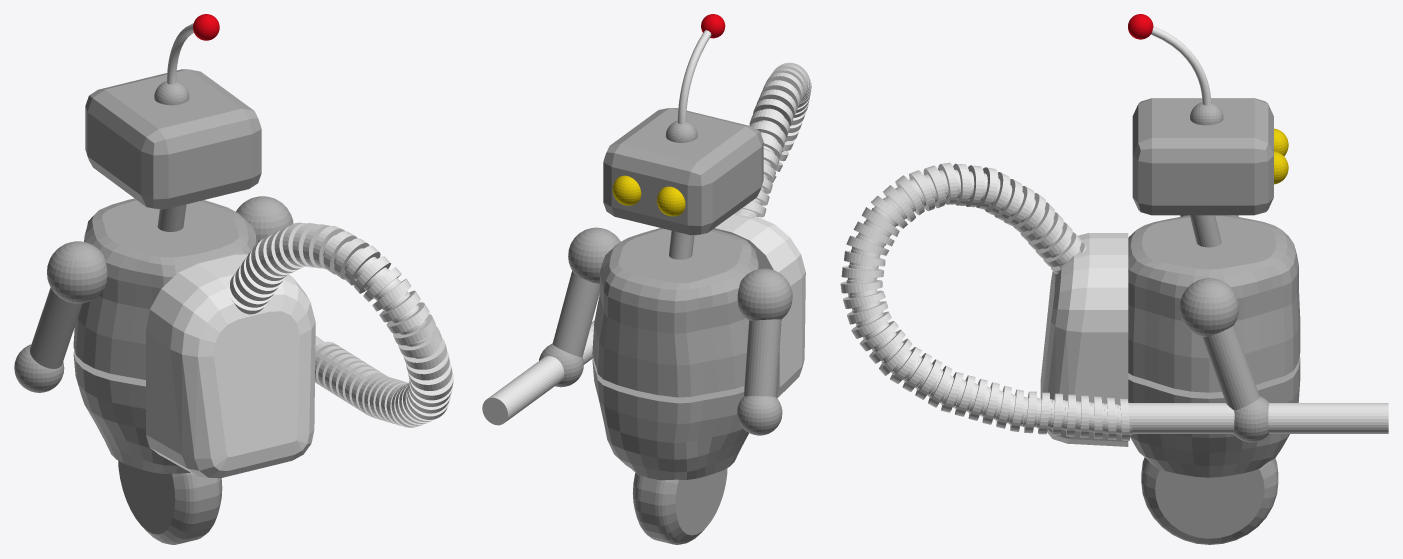
File: character.glb
3 renders of one model, left to right at view 1: azimuth 30°, elevation 25°; view 2: azimuth 150°, elevation 25°; view 3: azimuth 270°, elevation 25°, orthographic. The views are drawn at different scales.
Visible parts, largest first — view 1: Player, Cube, Tube, BezierCurve.001; view 2: Player, Cube, Tube, Pipe, BezierCurve.001; view 3: Player, Tube, Cube, Pipe, BezierCurve.001.
Boxes of the visible parts, x1=… form: Player: x1=14, y1=14, x2=293, y2=544; Cube: x1=146, y1=254, x2=315, y2=478; Tube: x1=228, y1=222, x2=453, y2=427; BezierCurve.001: x1=167, y1=23, x2=193, y2=84; Player: x1=539, y1=14, x2=792, y2=544; Cube: x1=713, y1=214, x2=805, y2=398; Tube: x1=734, y1=62, x2=811, y2=217; Pipe: x1=482, y1=320, x2=594, y2=425; BezierCurve.001: x1=677, y1=30, x2=711, y2=124; Player: x1=1128, y1=14, x2=1300, y2=544; Tube: x1=840, y1=162, x2=1132, y2=440; Cube: x1=1040, y1=233, x2=1128, y2=446; Pipe: x1=1120, y1=403, x2=1388, y2=433; BezierCurve.001: x1=1151, y1=26, x2=1211, y2=105.
Size of the model in its own units: 0.6522 by 1.31 by 1.24.
